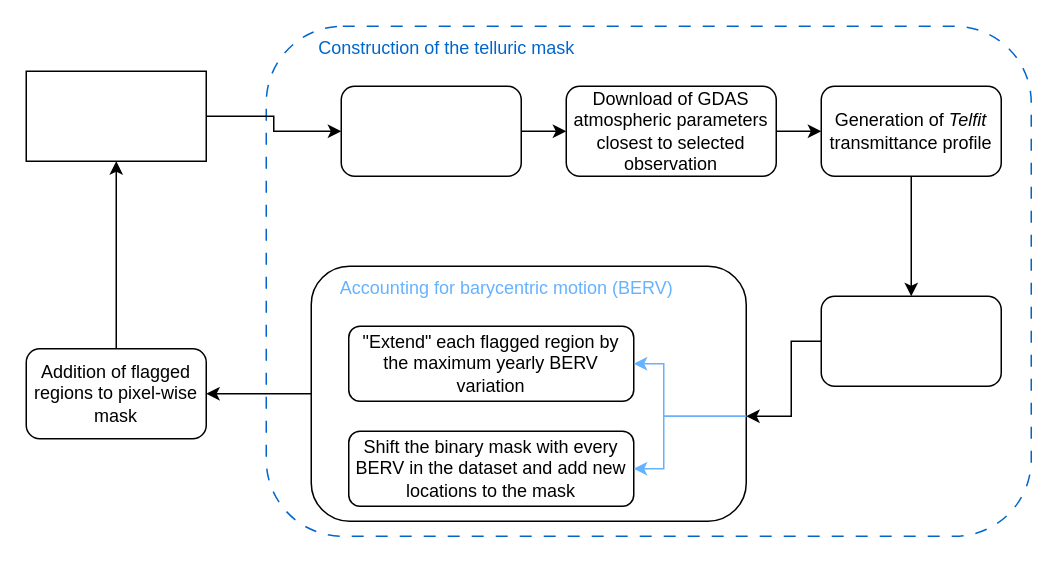
Image size: 1058x563. Some labels were removed from this diagram. The centre of each missing label's shape, as x and y in pixels:
Construct binary mask from features deeper than X %: the point at 910,340
Dataset of N observations: the point at 115,115
Search for observation with highest humidity: the point at 430,130
